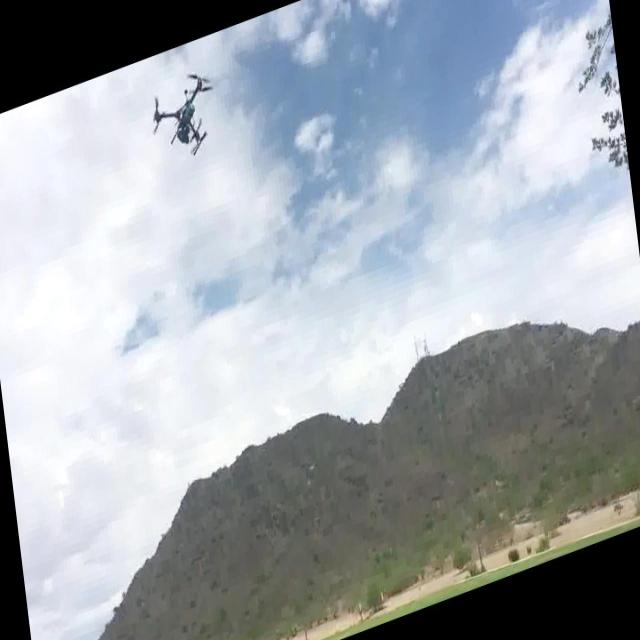drone: (147, 61, 220, 172)
